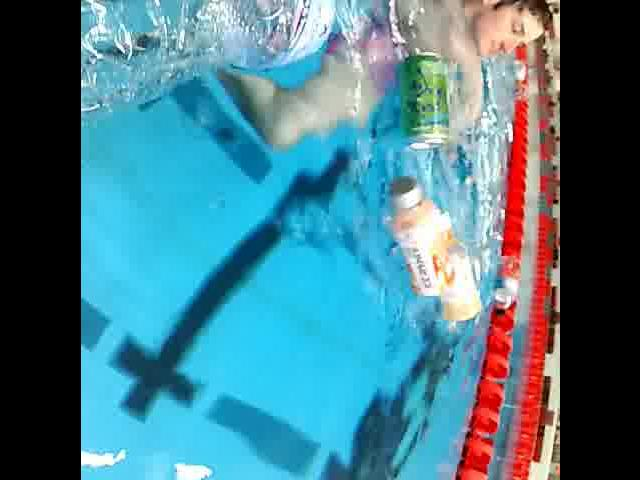Bottle: (80, 0, 347, 135), (382, 170, 458, 300), (418, 204, 486, 326)
Can: (398, 40, 453, 162)
